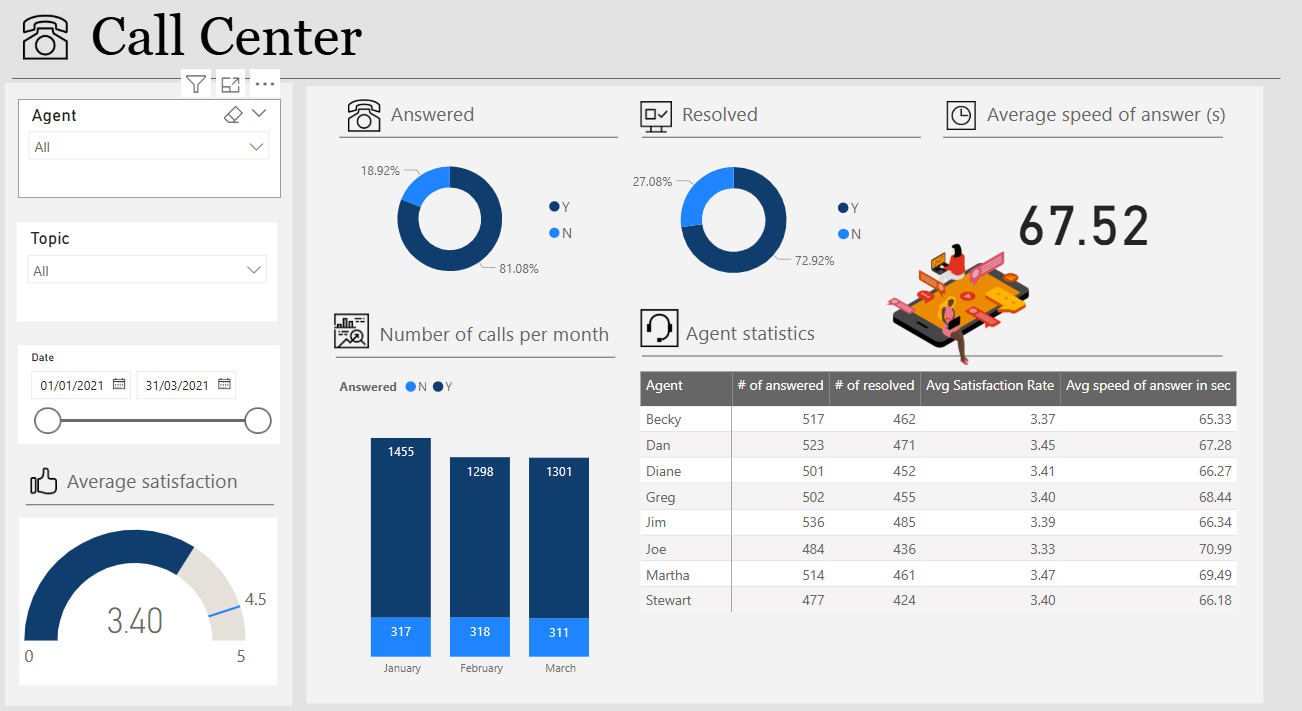

What the dashboard file says about the page in this screenshot:
{"tool":"powerbi","page":{"name":"Call Center Manager","canvas":[1280,720],"ordinal":0},"visuals":[{"type":"textbox","box":[89.7,4.8,1172,75.2],"z":0},{"type":"basicShape","box":[9,61,1244.3,40.1],"z":1000},{"type":"basicShape","box":[8.7,80.1,283.6,614.4],"z":2000},{"type":"basicShape","box":[292.6,83.8,942.7,607.6],"z":3000},{"type":"image","box":[24.1,7.7,53.1,68.5],"z":5000},{"type":"columnChart","fields":{"Category":["Call Center.Date.Variation.Date Hierarchy.Month"],"Y":["Call Center.Call Id"],"Series":["Call Center.Answered (Y/N)"]},"box":[329.5,359.7,284.8,308.3],"z":6000},{"type":"slicer","fields":{"Values":["Call Center.Date"]},"box":[24.6,339.5,252.4,94.9],"z":7000},{"type":"pivotTable","fields":{"Rows":["Call Center.Agent"],"Values":["Call Center.# of answered","Call Center.# of resolved","Call Center.Satisfaction rating","Call Center.Speed of answer in seconds"]},"box":[619.9,359.7,607.6,279.2],"z":8000},{"type":"slicer","fields":{"Values":["Call Center.Agent"]},"box":[24.6,101.6,252.4,95],"z":9000},{"type":"slicer","fields":{"Values":["Call Center.Topic"]},"box":[23.5,220.6,251.3,94.9],"z":10000},{"type":"donutChart","fields":{"Category":["Call Center.Resolved"],"Y":["Call Center.Resolved"]},"box":[611,143,242.4,149.7],"z":11000},{"type":"gauge","fields":{"Y":["Call Center.Satisfaction rating"],"MaxValue":["Call Center.Satisfaction rating"],"TargetValue":["Call Center.Target Value Satisfaction"]},"box":[25.7,506,249.1,162],"z":12000},{"type":"image","box":[31.1,452.4,35.7,35.7],"z":13000},{"type":"textbox","box":[66.8,452.4,188.1,35.7],"z":14000},{"type":"basicShape","box":[21.2,472.5,259.1,40.2],"z":15000},{"type":"donutChart","fields":{"Category":["Call Center.Answered (Y/N)"],"Y":["Call Center.Answered (Y/N)"]},"box":[341.8,141.8,232.3,149.7],"z":16000},{"type":"textbox","box":[378.6,98.3,172,35.7],"z":17000},{"type":"textbox","box":[660.1,98.3,183.2,35.7],"z":18000},{"type":"card","fields":{"Values":["Call Center.Speed of answer in seconds"]},"box":[953.9,148.6,196.6,136.3],"z":19000},{"type":"basicShape","box":[906.9,118.4,289.3,40.2],"z":20000},{"type":"textbox","box":[953.9,98.3,250.2,35.7],"z":21000},{"type":"basicShape","box":[325,118.4,289,40.2],"z":22000},{"type":"basicShape","box":[616,118.4,289,40.2],"z":23000},{"type":"image","box":[915.9,88.2,38,59.2],"z":24000},{"type":"image","box":[337.3,94.9,41.3,43.6],"z":25000},{"type":"image","box":[619.9,88.2,40.2,61.4],"z":26000},{"type":"textbox","box":[367.4,310.5,250.2,35.7],"z":27000},{"type":"basicShape","box":[320.5,330.6,289.3,40.2],"z":28000},{"type":"textbox","box":[663.4,309.3,250.2,35.7],"z":29000},{"type":"basicShape","box":[616.5,329.5,579.7,40.2],"z":30000},{"type":"image","box":[619.9,294.9,46.9,55.8],"z":31000},{"type":"image","box":[325,290.4,43.6,69.2],"z":32000},{"type":"image","box":[800.6,197.7,278.8,187.1],"z":33000},{"type":"textbox","box":[7.7,691.6,403.2,28],"z":34000}]}

Visuals, with their boxes on the page's 1280x720 design canvas (x1, y1, x2, y2). These are canvas units, not pixel positions in the 1302x711 screenshot, which may show the page scaled, cropped or inside an application window:
textbox: 90/5/1262/80
basicShape: 9/61/1253/101
basicShape: 9/80/292/694
basicShape: 293/84/1235/691
image: 24/8/77/76
columnChart - Call Center.Date.Variation.Date Hierarchy.Month x Call Center.Call Id: 330/360/614/668
slicer - Call Center.Date: 25/340/277/434
pivotTable - Call Center.Agent x Call Center.# of answered: 620/360/1228/639
slicer - Call Center.Agent: 25/102/277/197
slicer - Call Center.Topic: 24/221/275/316
donutChart - Call Center.Resolved x Call Center.Resolved: 611/143/853/293
gauge - Call Center.Satisfaction rating x Call Center.Satisfaction rating: 26/506/275/668
image: 31/452/67/488
textbox: 67/452/255/488
basicShape: 21/472/280/513
donutChart - Call Center.Answered (Y/N) x Call Center.Answered (Y/N): 342/142/574/292
textbox: 379/98/551/134
textbox: 660/98/843/134
card - Call Center.Speed of answer in seconds: 954/149/1150/285
basicShape: 907/118/1196/159
textbox: 954/98/1204/134
basicShape: 325/118/614/159
basicShape: 616/118/905/159
image: 916/88/954/147
image: 337/95/379/138
image: 620/88/660/150
textbox: 367/310/618/346
basicShape: 320/331/610/371
textbox: 663/309/914/345
basicShape: 616/330/1196/370
image: 620/295/667/351
image: 325/290/369/360
image: 801/198/1079/385
textbox: 8/692/411/720
